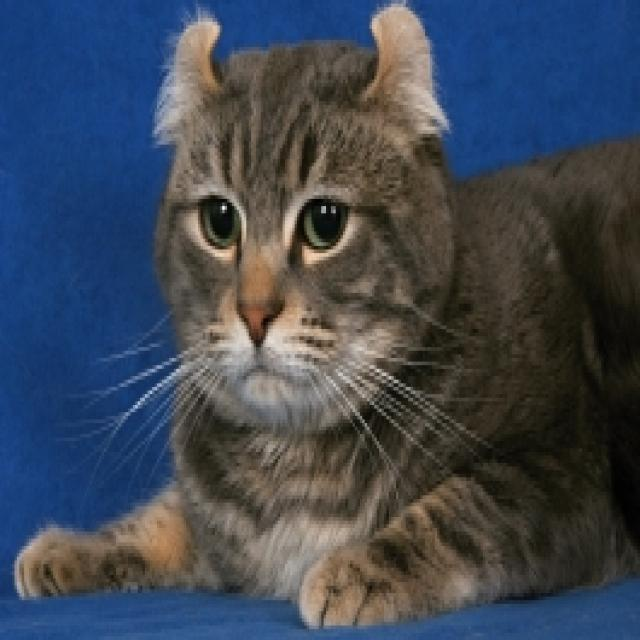American Curl: (9, 0, 640, 633)
